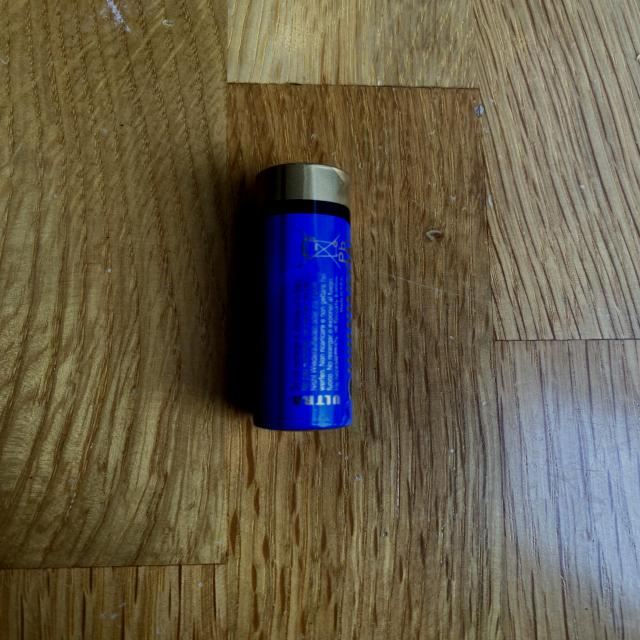AA: (250, 160, 356, 437)
